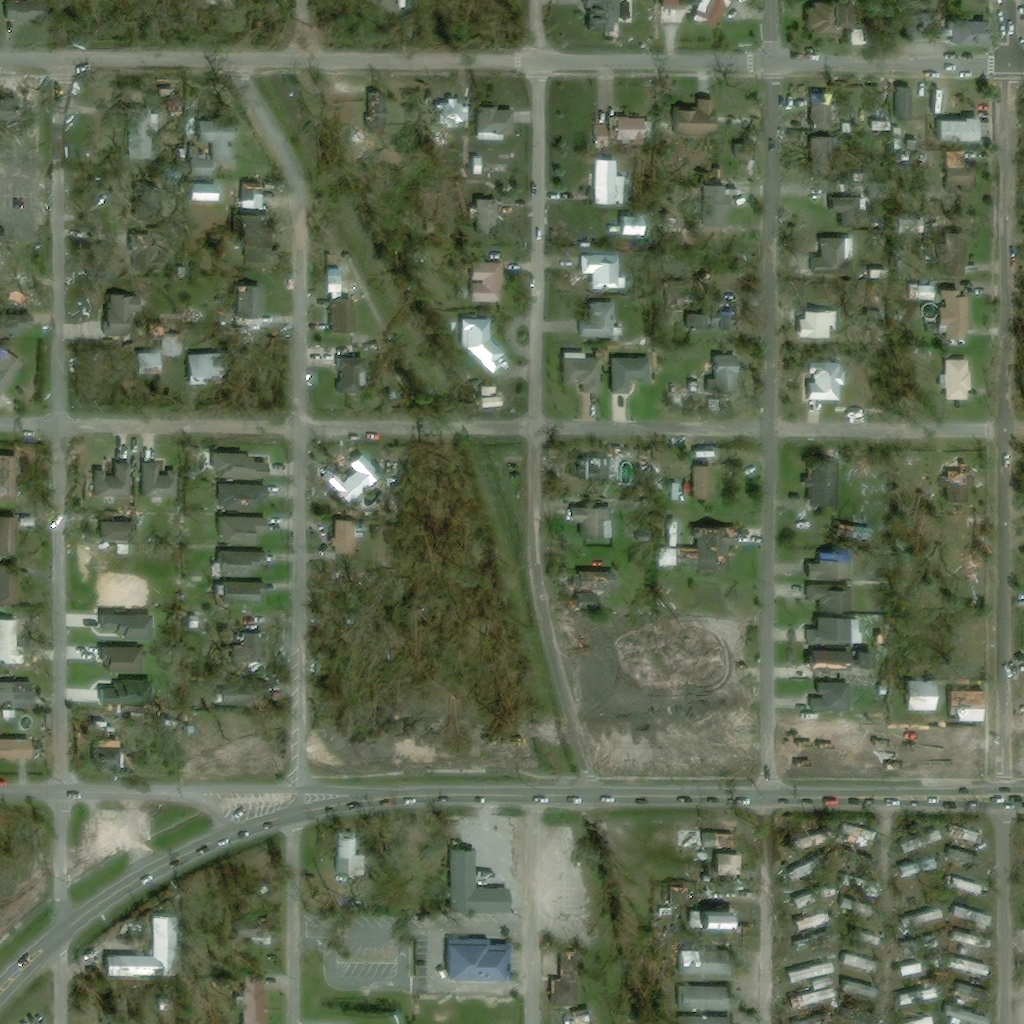destroyed: (189, 307, 201, 319)
major_damage: (674, 525, 740, 571), (850, 874, 881, 892), (706, 831, 734, 849), (572, 1006, 595, 1023)
minor_damage: (96, 910, 171, 967), (567, 446, 622, 479), (936, 228, 968, 276), (236, 214, 267, 261), (230, 284, 266, 323), (218, 481, 268, 509), (948, 689, 988, 722), (941, 951, 983, 980), (952, 903, 993, 932), (0, 345, 21, 401), (351, 109, 386, 141), (435, 96, 472, 126), (782, 986, 823, 1010), (897, 854, 936, 877), (946, 979, 981, 1004), (942, 876, 983, 894), (552, 978, 579, 1005), (0, 454, 16, 499), (0, 681, 34, 701), (238, 180, 262, 208), (469, 198, 500, 218), (572, 568, 601, 589), (679, 827, 698, 849), (137, 355, 151, 369), (152, 354, 160, 367)
no_damage: (451, 846, 512, 914), (320, 448, 382, 504), (447, 937, 512, 981), (460, 318, 502, 373), (802, 448, 838, 512), (684, 297, 732, 339), (671, 97, 716, 136), (937, 288, 970, 340), (805, 0, 854, 35), (130, 107, 163, 158), (805, 360, 847, 400), (592, 158, 628, 204), (807, 615, 862, 645), (578, 253, 625, 288), (474, 101, 515, 140), (213, 549, 272, 575), (612, 355, 651, 394), (235, 971, 264, 1023), (198, 119, 236, 158), (564, 356, 603, 394), (570, 505, 613, 539), (806, 649, 872, 671), (139, 461, 178, 498), (0, 732, 48, 762), (789, 308, 837, 338), (677, 983, 730, 1010), (580, 302, 623, 335), (220, 515, 270, 543), (214, 450, 267, 476), (804, 551, 851, 579), (786, 927, 836, 953), (213, 581, 271, 603), (95, 460, 128, 498), (806, 583, 852, 610), (103, 613, 151, 638), (934, 19, 986, 42), (786, 957, 832, 983), (591, 114, 635, 141), (678, 953, 732, 975), (896, 977, 939, 1004), (944, 357, 971, 399), (188, 708, 233, 733), (810, 682, 850, 710), (693, 183, 730, 213), (940, 1002, 992, 1023), (586, 0, 621, 31), (791, 883, 832, 909), (935, 115, 981, 138), (467, 260, 492, 302), (948, 926, 983, 956), (105, 293, 142, 321), (0, 618, 23, 662), (710, 353, 738, 389), (102, 647, 142, 672), (903, 680, 936, 710), (395, 823, 429, 852), (337, 356, 365, 391), (898, 953, 938, 976), (329, 298, 355, 333), (191, 184, 221, 214), (126, 234, 150, 271), (796, 745, 836, 767), (92, 737, 120, 768), (701, 0, 731, 28), (6, 0, 42, 23), (792, 908, 828, 931), (2, 312, 35, 337), (938, 165, 974, 186), (240, 632, 266, 661), (0, 515, 18, 556), (335, 838, 354, 875), (239, 916, 274, 936), (713, 853, 743, 875), (693, 465, 714, 496), (210, 688, 248, 704), (688, 911, 720, 929), (0, 564, 15, 602), (109, 576, 134, 598), (795, 1009, 834, 1023), (678, 1013, 727, 1023), (838, 951, 860, 973), (847, 450, 867, 473), (323, 268, 342, 292), (187, 158, 213, 175), (919, 905, 943, 923), (862, 930, 881, 952), (184, 353, 202, 375), (483, 160, 509, 174), (671, 481, 690, 500), (898, 1013, 932, 1023), (778, 863, 796, 881), (361, 484, 379, 502), (733, 142, 753, 158), (239, 615, 258, 631), (667, 519, 678, 546), (352, 520, 364, 544), (508, 451, 528, 463), (964, 854, 982, 866), (470, 155, 482, 173), (924, 829, 939, 843), (620, 218, 633, 234), (695, 448, 716, 457), (664, 0, 687, 8), (919, 16, 932, 29), (275, 692, 287, 704), (953, 758, 962, 773), (105, 725, 118, 735), (565, 352, 586, 358), (551, 963, 562, 972), (2, 709, 14, 717), (49, 713, 56, 726)
